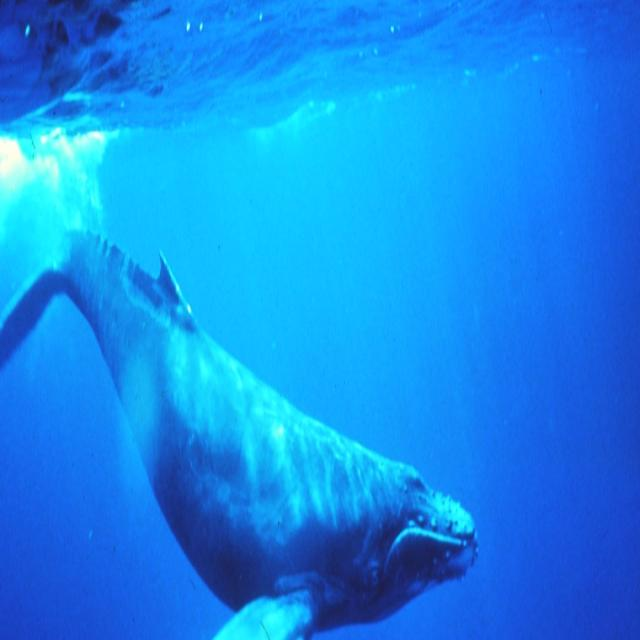whale: (0, 230, 477, 639)
